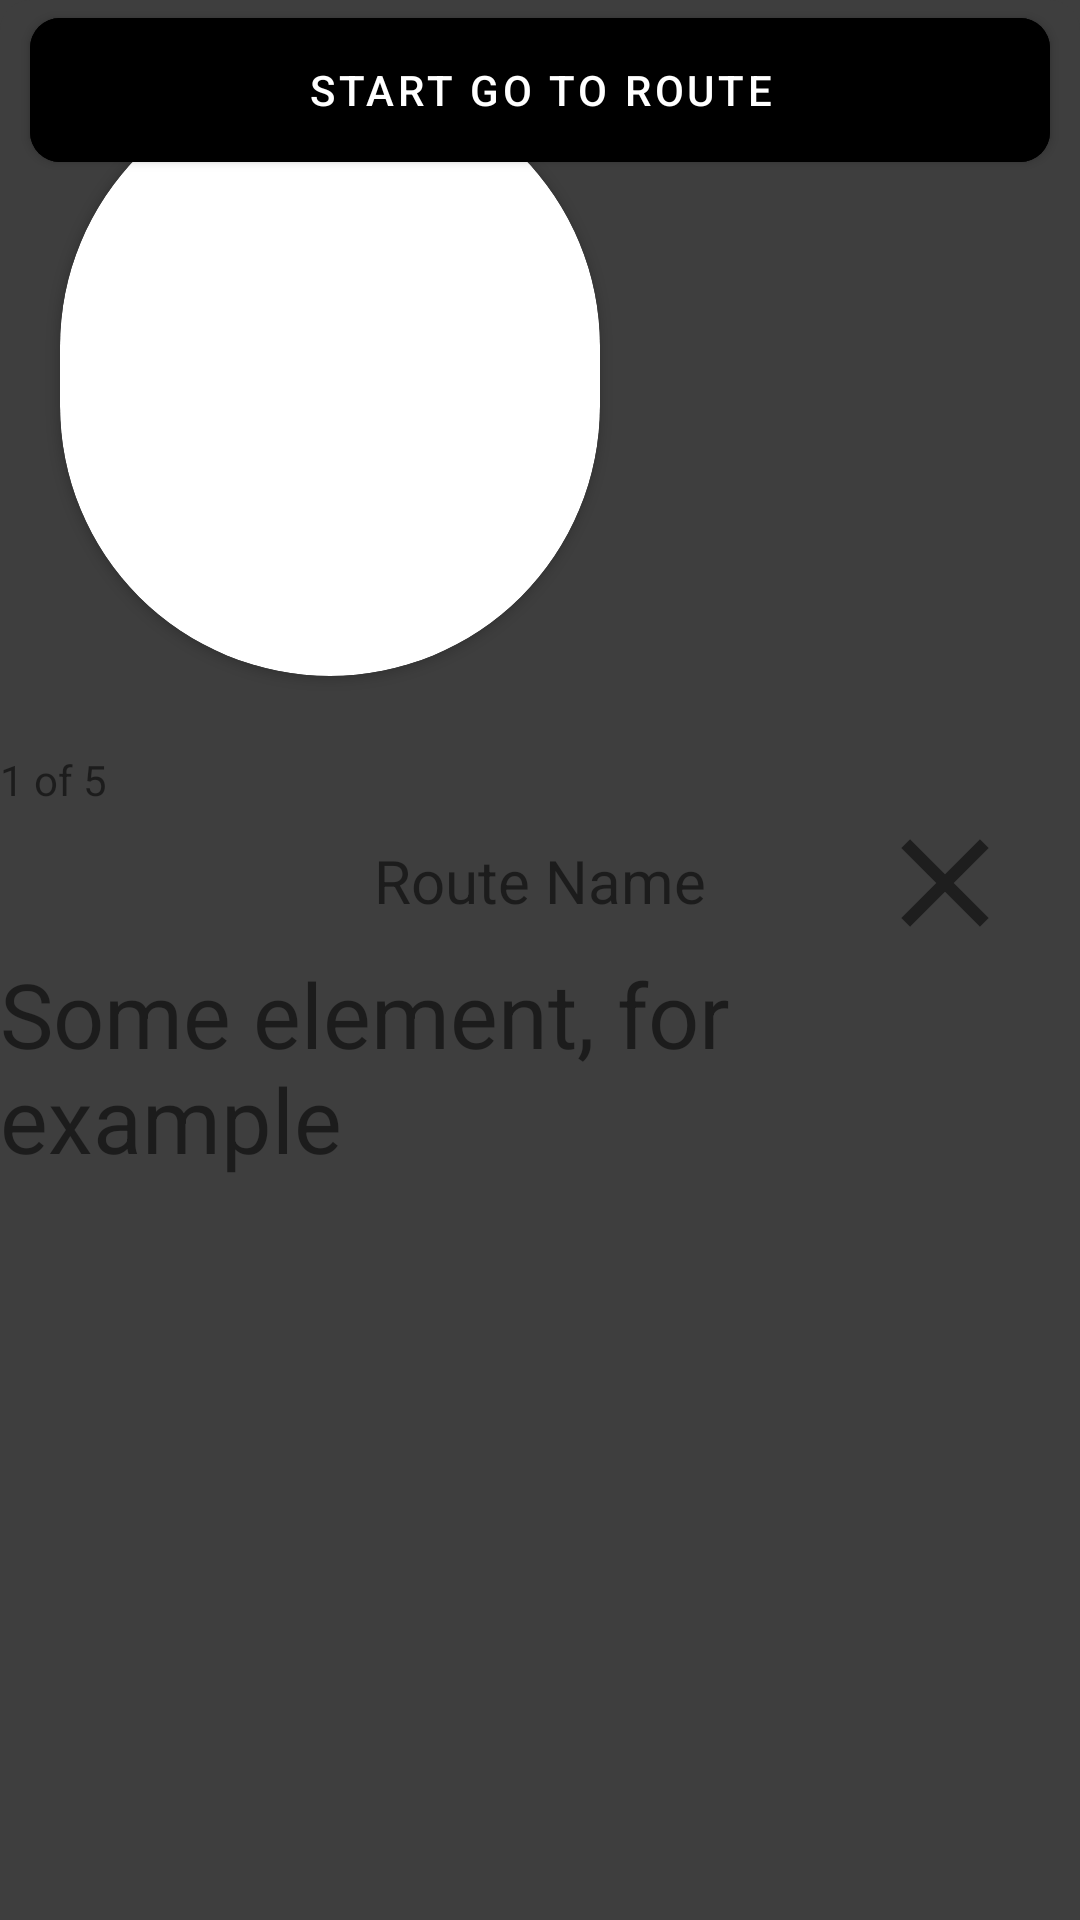

Where to tap for icons on this 1080*1920 app screen, as (x,y):
close: (945,883)
